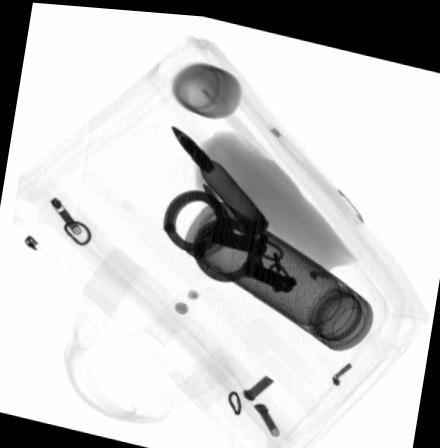Bullet: (170, 122, 270, 229)
HandCuffs: (161, 177, 301, 287)
